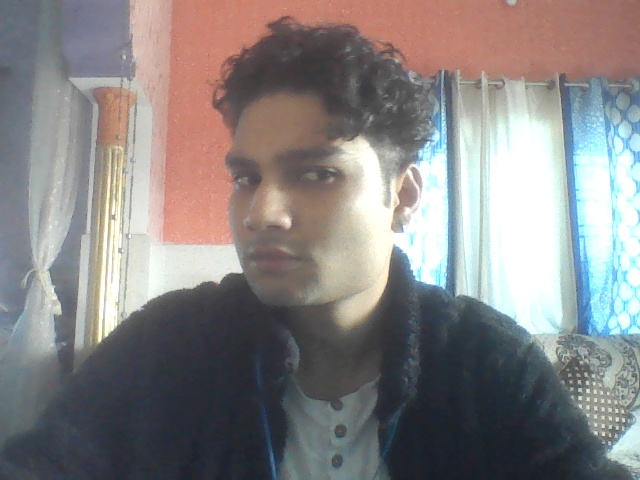real: (198, 17, 420, 331)
